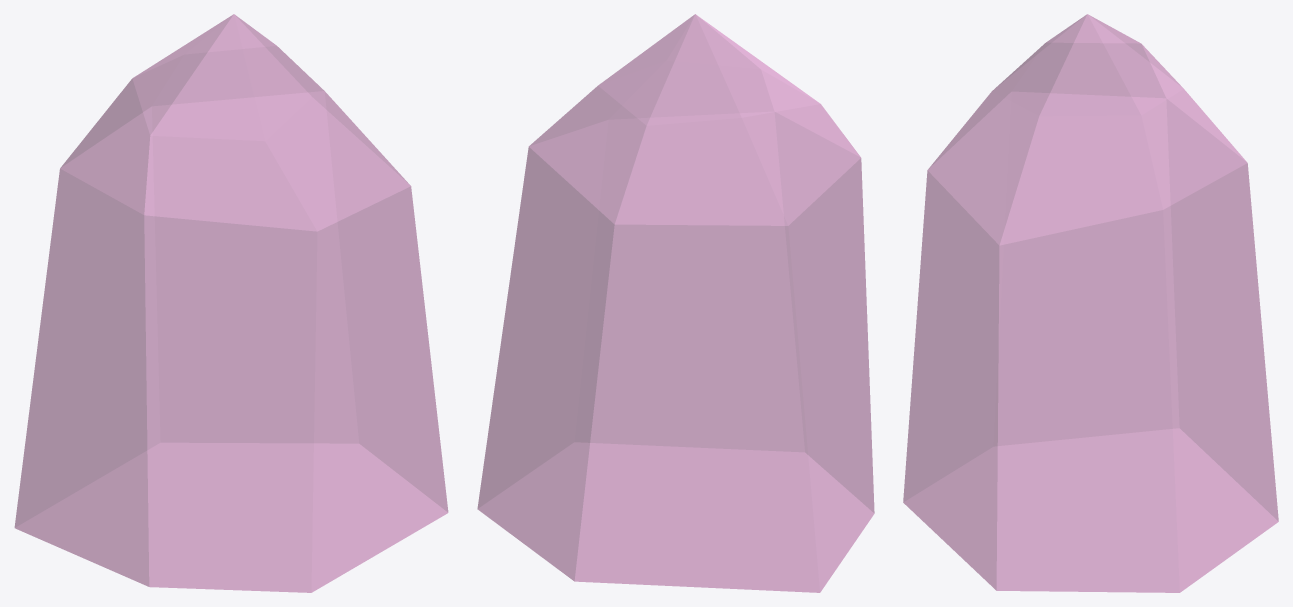
Rendered from Crystal3.fbx.
3 views of the same model, side by side, from view 1: azimuth 30°, elevation 25°; view 2: azimuth 150°, elevation 25°; view 3: azimuth 270°, elevation 25° (orthographic).
Visible parts, largest first — view 1: Crystal3; view 2: Crystal3; view 3: Crystal3.
Part boxes in pixels (left/top/right/bottom): Crystal3: left=14, top=14, right=448, bottom=592; Crystal3: left=477, top=14, right=874, bottom=592; Crystal3: left=903, top=14, right=1278, bottom=592.
Bounding box in the file's own units: 0.7692 × 1.08 × 0.7397.
